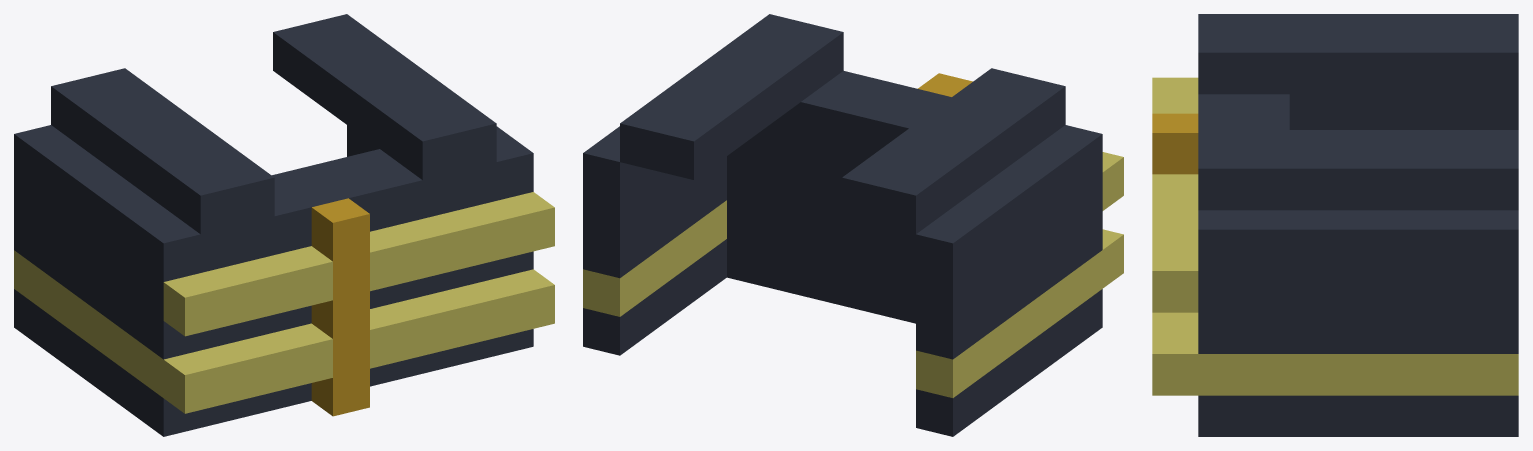
Rendered from gear_feuerwehr_vest.glb.
3 renders of one model, left to right at view 1: azimuth 30°, elevation 25°; view 2: azimuth 150°, elevation 25°; view 3: azimuth 270°, elevation 25°, orthographic. The views are drawn at different scales.
Parts seen in each view (by area): view 1: body; view 2: body; view 3: body.
Part boxes in pixels (x1,y1,x2,y2): body: (14, 14, 554, 436); body: (583, 14, 1123, 436); body: (1152, 14, 1518, 436).
Bounding box in the file's own units: 0.6 × 0.36 × 0.48.
